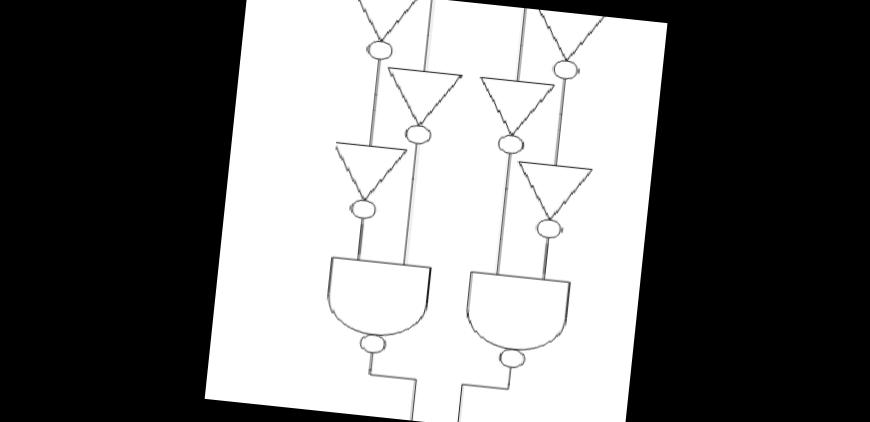nand: (314, 252, 434, 364), (455, 268, 574, 376)
not: (508, 158, 594, 246), (322, 138, 408, 224), (378, 64, 463, 148), (522, 9, 612, 83), (474, 75, 555, 157), (337, 0, 420, 64)
